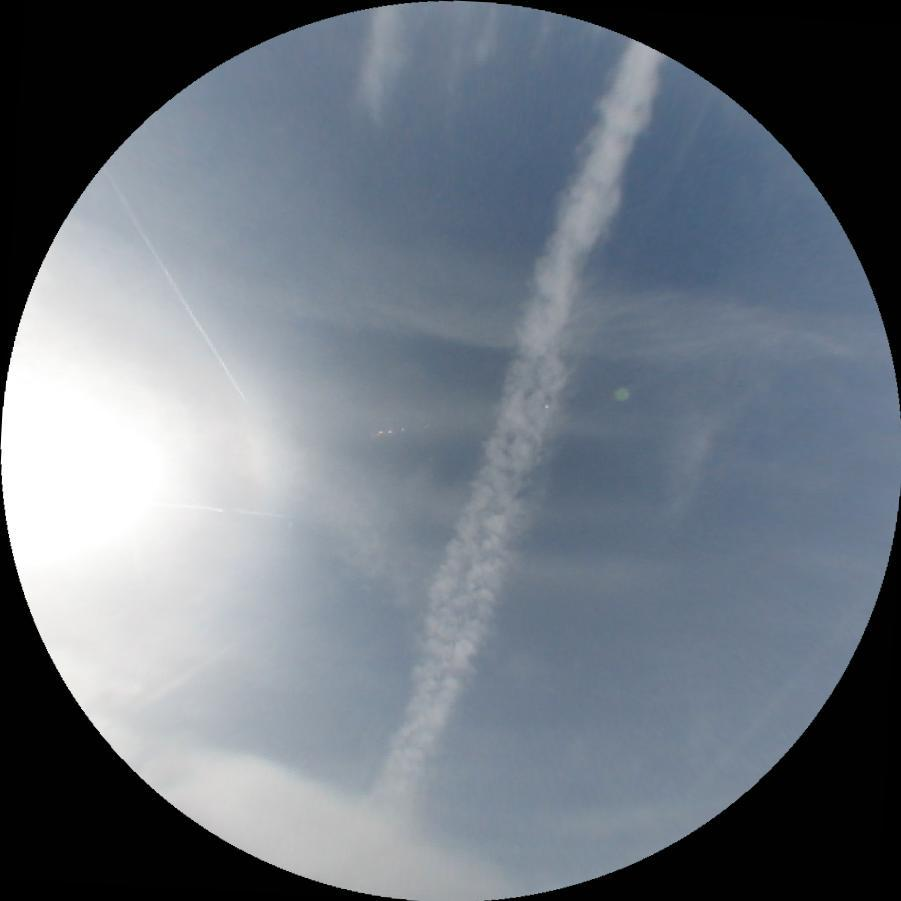contrail veryold: (353, 31, 685, 828)
contrail young: (100, 163, 248, 405)
parasite: (150, 499, 291, 519)
sun: (0, 362, 164, 574)
unknow: (143, 647, 225, 706)
